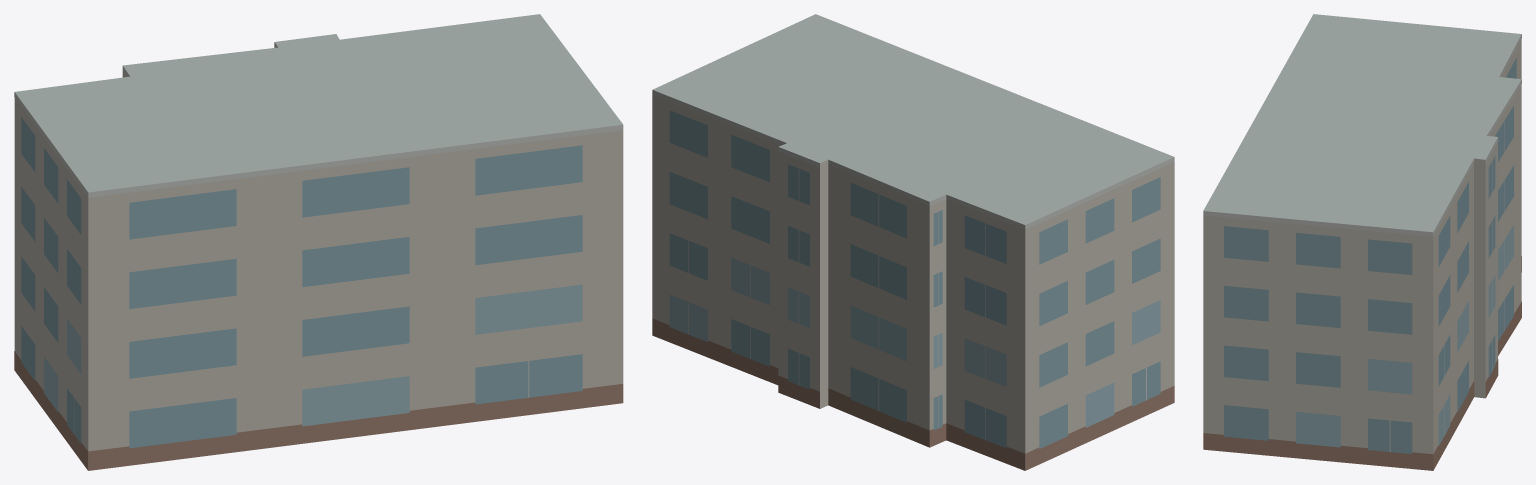
Rendered from survey-upis-33024512.glb.
3 renders of one model, left to right at view 1: azimuth 30°, elevation 25°; view 2: azimuth 150°, elevation 25°; view 3: azimuth 270°, elevation 25°, orthographic. The views are drawn at different scales.
Parts seen in each view (by area): view 1: survey-upis-33024512.tmp; view 2: survey-upis-33024512.tmp; view 3: survey-upis-33024512.tmp.
Part boxes in pixels (x1=…): survey-upis-33024512.tmp: x1=14, y1=14, x2=623, y2=470; survey-upis-33024512.tmp: x1=652, y1=14, x2=1174, y2=470; survey-upis-33024512.tmp: x1=1203, y1=14, x2=1521, y2=470.
Bounding box in the file's own units: 24.92 × 12.7 × 15.38.
